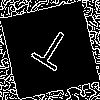T: (24, 24, 76, 80)
